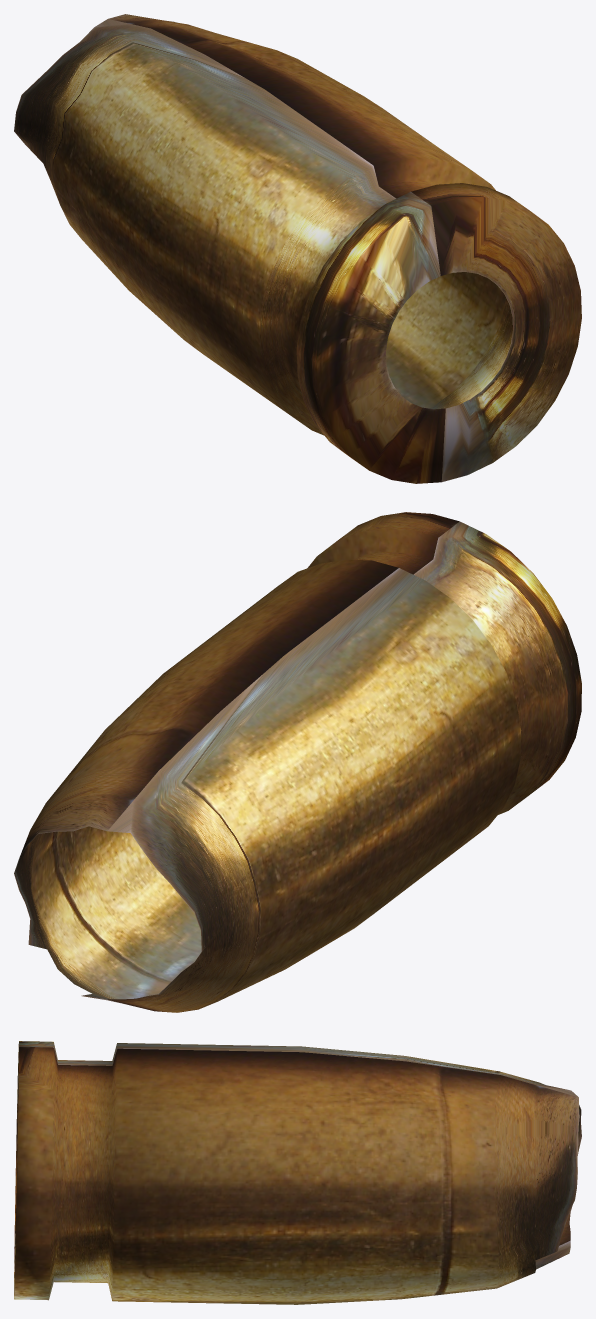
Rendered from gilza.fbx.
The picture shows the model from 3 angles, top to bottom: view 1: azimuth 30°, elevation 25°; view 2: azimuth 150°, elevation 25°; view 3: azimuth 270°, elevation 25°; orthographic projection. The views are drawn at different scales.
Parts seen in each view (by area): view 1: gilza; view 2: gilza; view 3: gilza.
Boxes of the visible parts, x1,y1,x2,y2 form: gilza: (14,14,581,483); gilza: (14,512,581,1012); gilza: (14,1041,581,1304).
Bounding box in the file's own units: 4.14 × 4.21 × 9.05.
